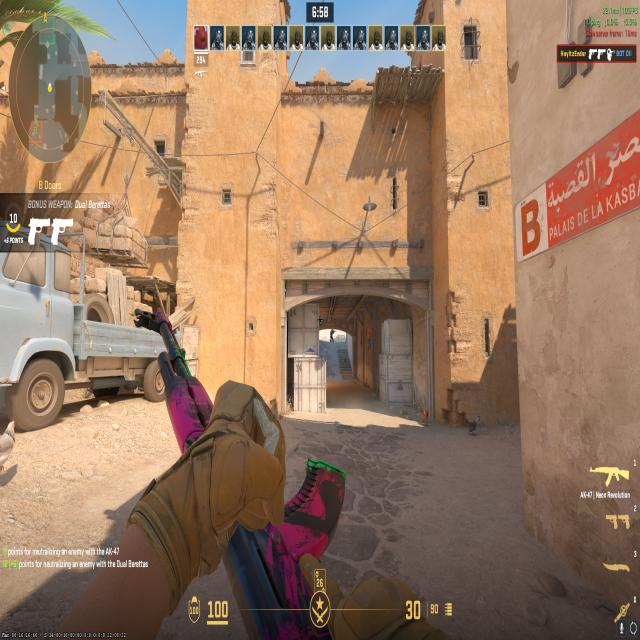ct: (330, 326, 335, 345)
